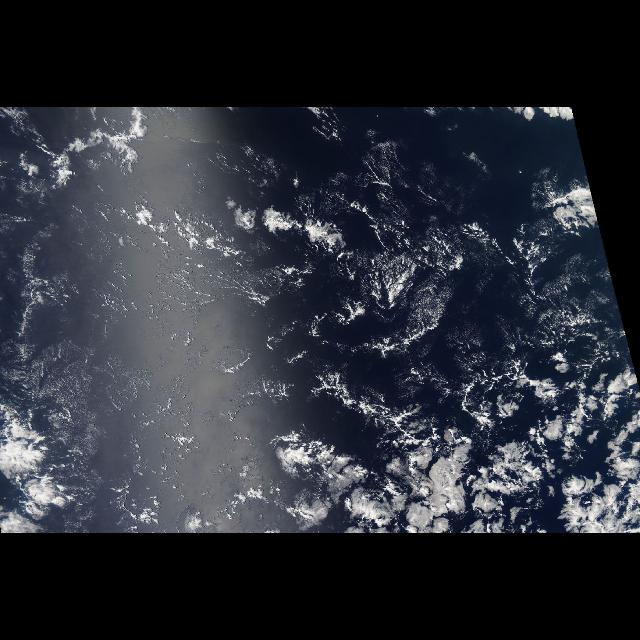Flower: (354, 384, 640, 530)
Gravel: (294, 163, 464, 357)
